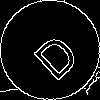D: (25, 25, 82, 83)
